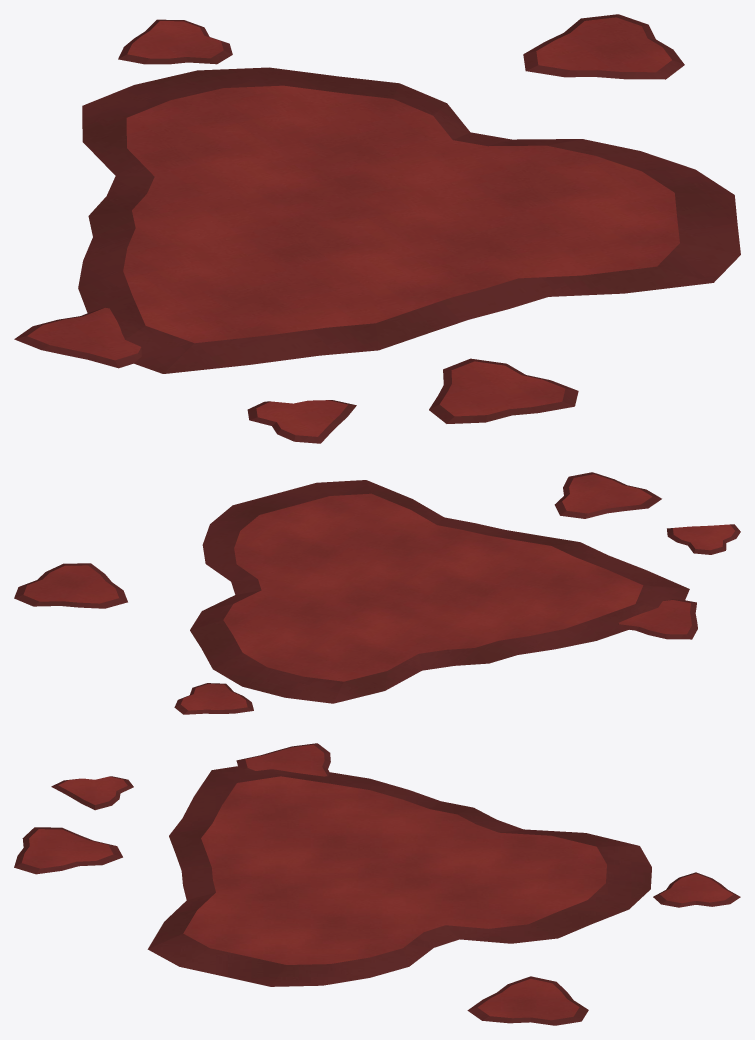
Rendered from gore_pool_big.glb.
3 views of the same model, one above another, from view 1: azimuth 30°, elevation 25°; view 2: azimuth 150°, elevation 25°; view 3: azimuth 270°, elevation 25° (orthographic). The views are drawn at different scales.
Parts seen in each view (by area): view 1: NC_gore_pool_big; view 2: NC_gore_pool_big; view 3: NC_gore_pool_big.
Boxes of the visible parts, left/top/right/bottom form: NC_gore_pool_big: left=14, top=14, right=740, bottom=443; NC_gore_pool_big: left=14, top=472, right=740, bottom=714; NC_gore_pool_big: left=14, top=743, right=740, bottom=1025.
Bounding box in the file's own units: 1.76 × 0.0153 × 1.91.
2 materials, 2 textured.
